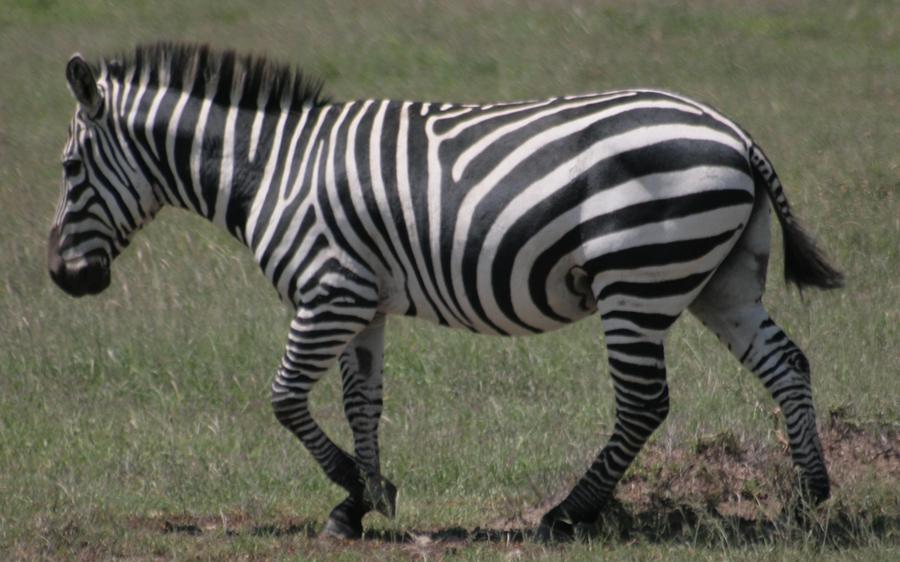zebra_plains: (255, 76, 715, 343)
